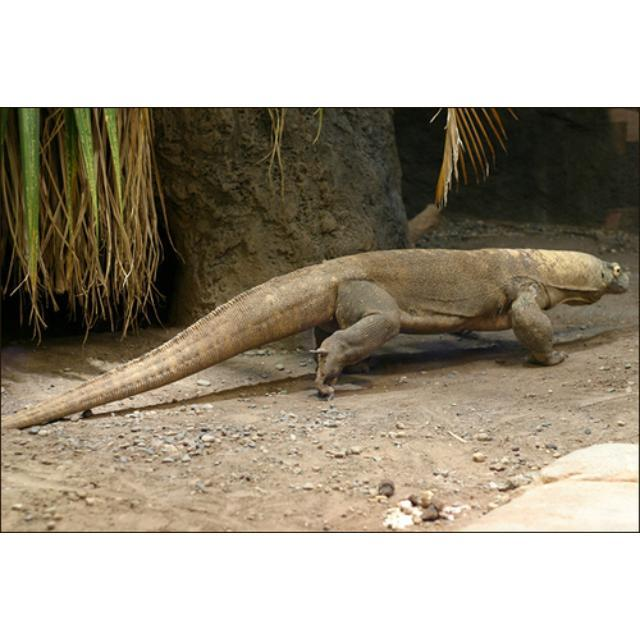KomodoDragon: (0, 247, 628, 430)
